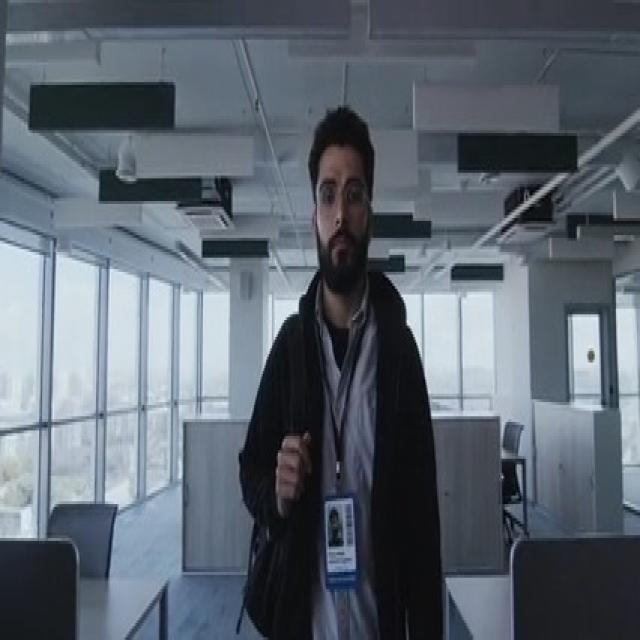Jacket_Wearer: (234, 244, 435, 640)
Person: (235, 101, 438, 640)
